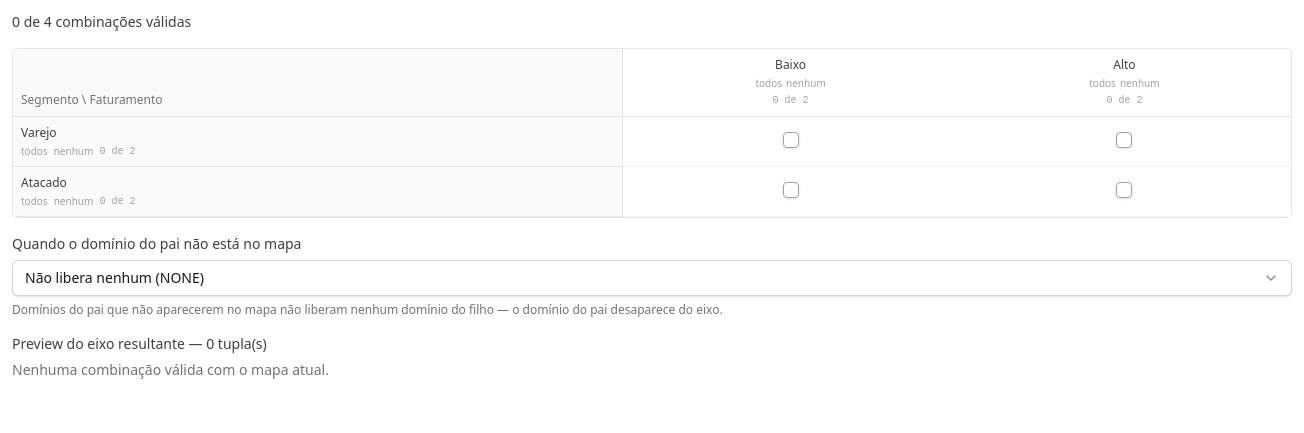
Test: CompatibilityMapEditor — marcar/desmarcar atualiza contador e preview na hora › desmarcar uma caixa já marcada devolve o contador e some do preview
Click the checkbox named "Varejo → Baixo" at (791, 140), box x1=783 y1=132 x2=799 y2=148
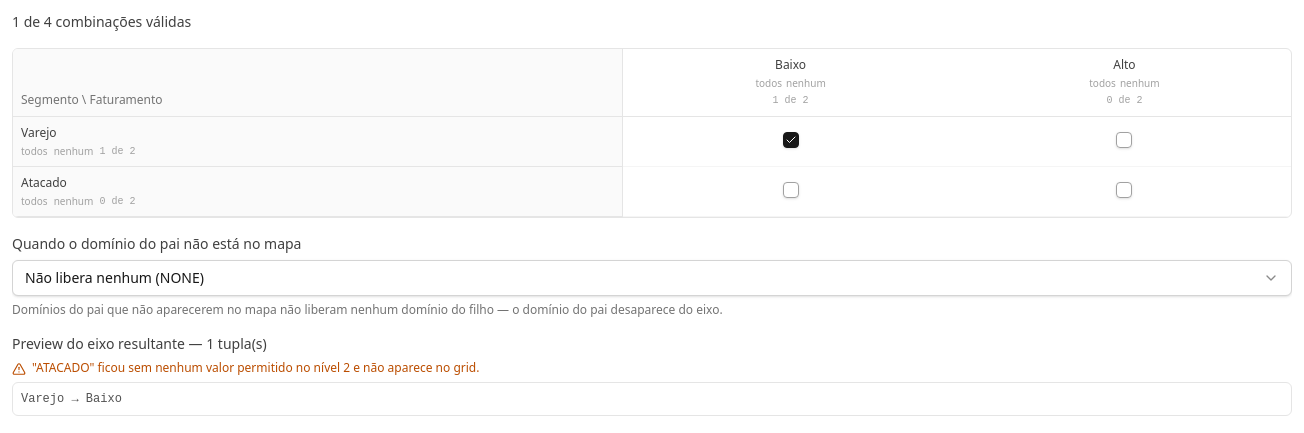
expect the text "1 de 4 combinações válidas" is shown: met, box x1=12 y1=12 x2=191 y2=32
Click the checkbox named "Varejo → Baixo" at (791, 140), box x1=783 y1=132 x2=799 y2=148
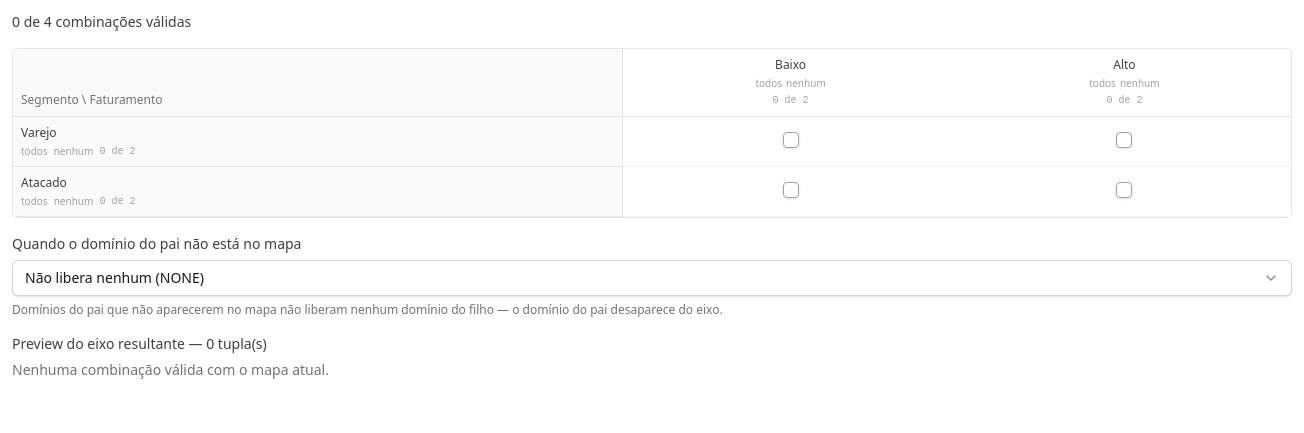
expect the text "0 de 4 combinações válidas" is shown: met, box x1=12 y1=12 x2=191 y2=32
expect the text "Preview do eixo resultante — 0 tupla(s)" is shown: met, box x1=12 y1=334 x2=267 y2=353
